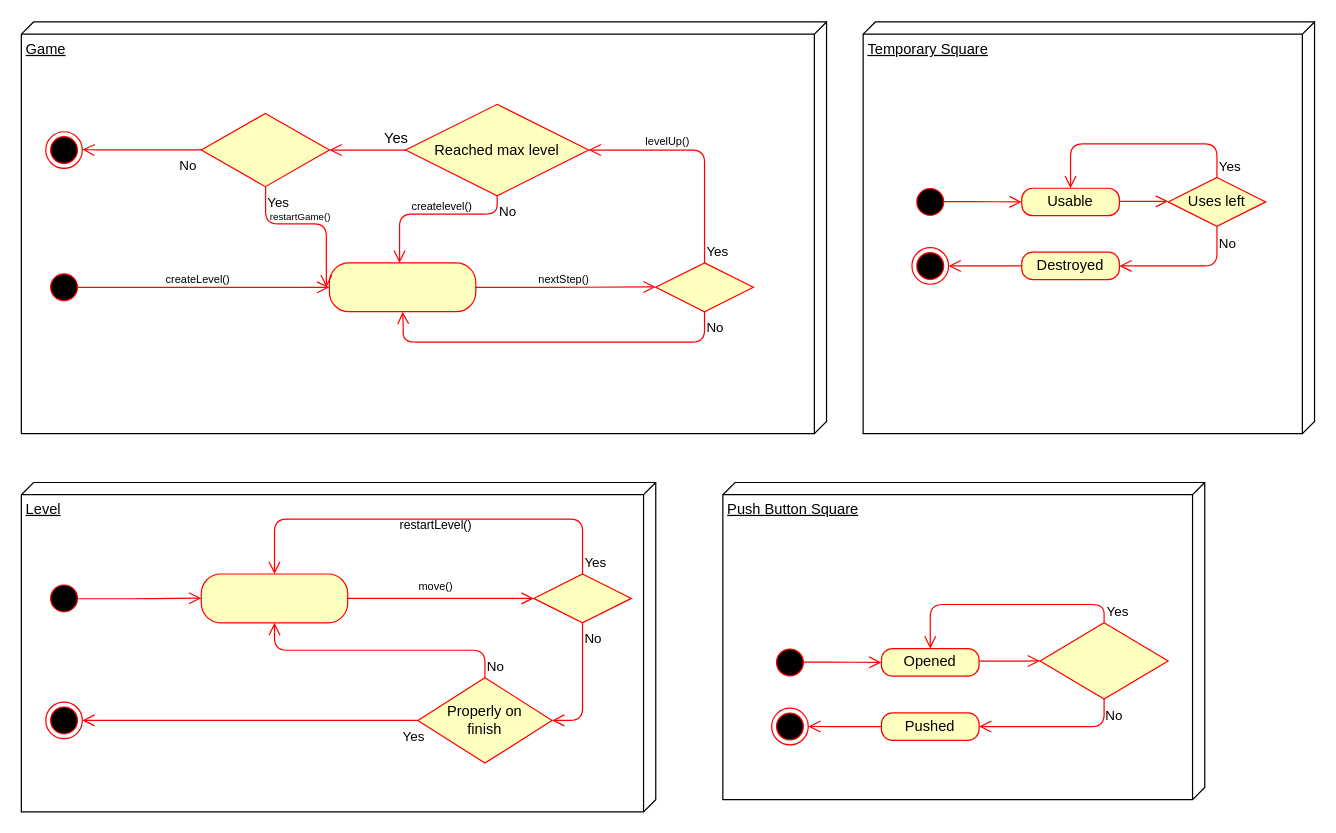
Image size: 1336x833. Some labels were removed from this diagram. The centre of each missing label's shape, as x and y in pixels:
"Fall" goes at (x=582, y=598).
"Finished" goes at (x=704, y=287).
"Play again" goes at (x=264, y=149).
"Playing" goes at (x=402, y=287).
"Pushed by cube" goes at (x=1103, y=660).
"Waiting for user to move" goes at (x=274, y=598).
